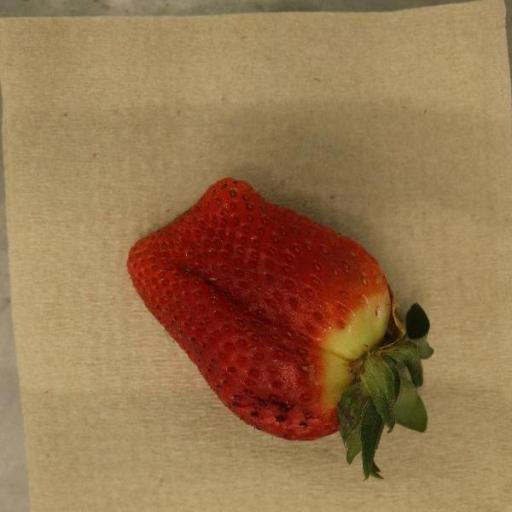Strawberry: (127, 178, 436, 482)
